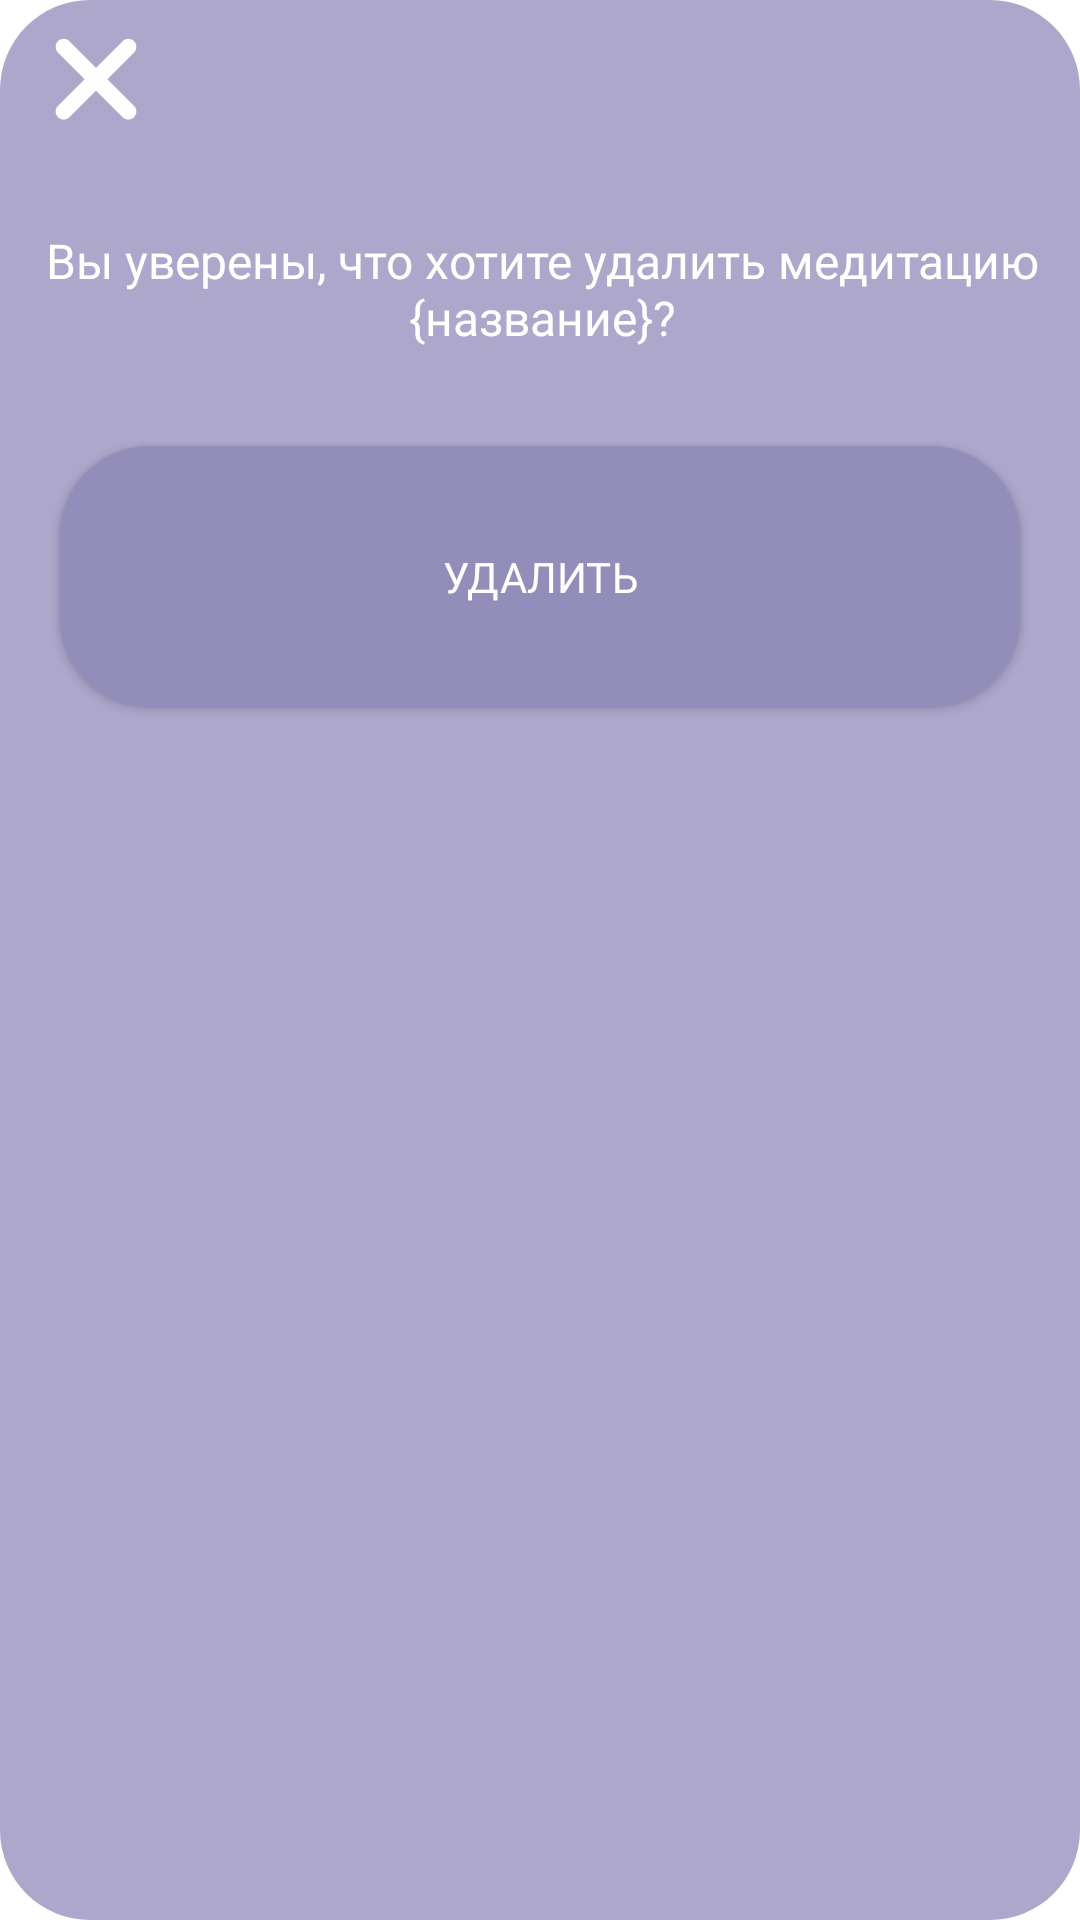

Screen size 1080 × 1920. Icon name, then its center in pixels as point (x, y):
cross: point (95, 79)
